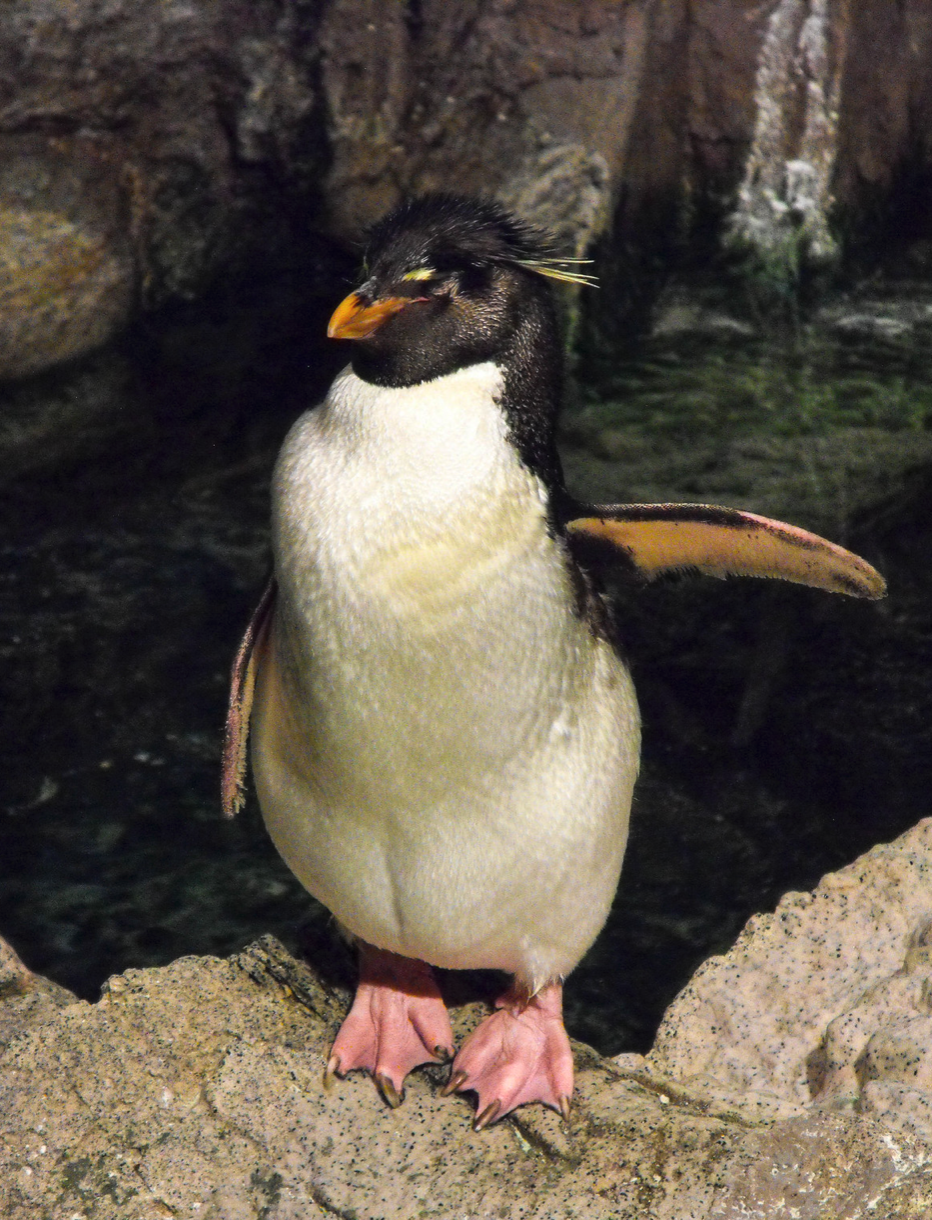penguin: (212, 189, 901, 1110)
